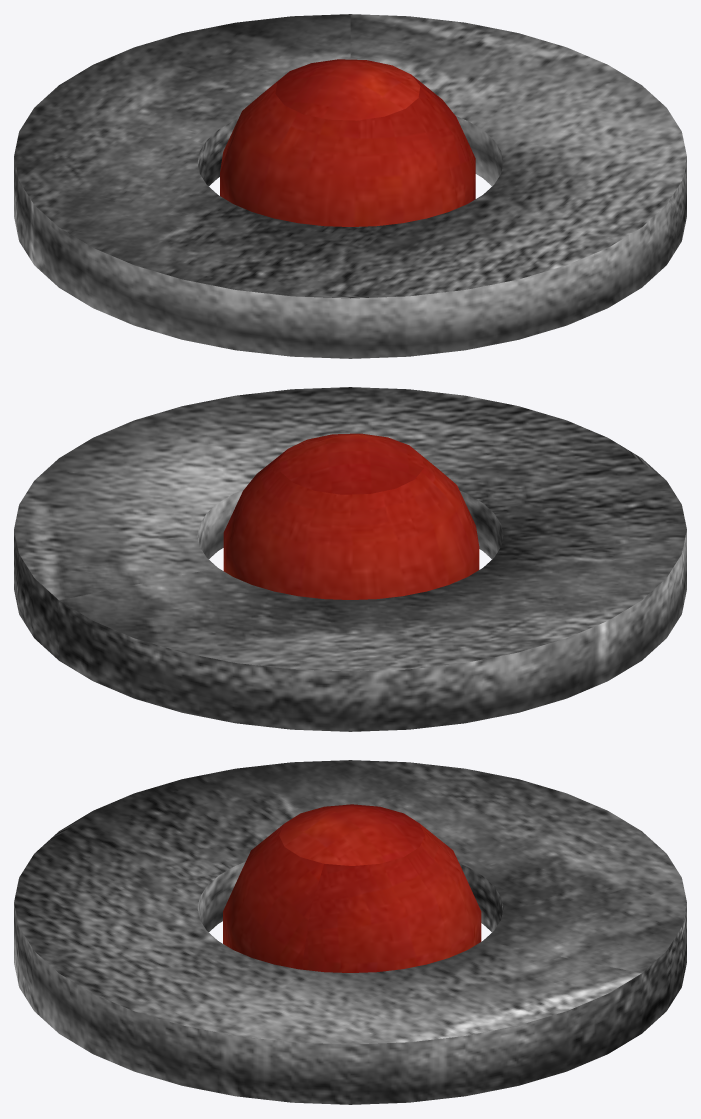
Rendered from alien1.obj.
3 renders of one model, top to bottom at view 1: azimuth 30°, elevation 25°; view 2: azimuth 150°, elevation 25°; view 3: azimuth 270°, elevation 25°, orthographic.
Visible parts, largest first — view 1: Cube; view 2: Cube; view 3: Cube.
Part boxes in pixels (x1=…): Cube: x1=14, y1=14, x2=686, y2=358; Cube: x1=14, y1=387, x2=686, y2=731; Cube: x1=14, y1=760, x2=686, y2=1104.
Size of the model in its own units: 5.12 by 2 by 5.12.
2 materials, 2 textured.
